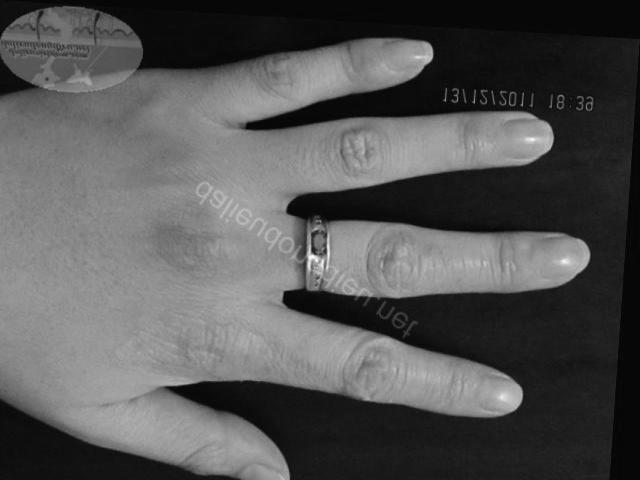not-gloved: (0, 38, 588, 480)
